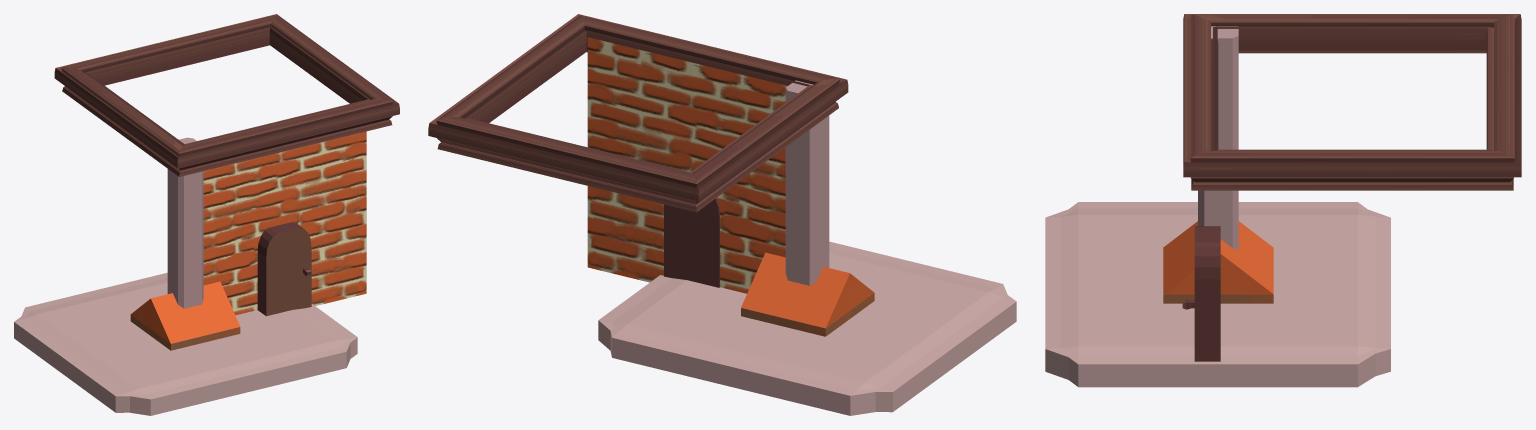
Rendered from ModulosCasa.fbx.
3 renders of one model, left to right at view 1: azimuth 30°, elevation 25°; view 2: azimuth 150°, elevation 25°; view 3: azimuth 270°, elevation 25°, orthographic. The views are drawn at different scales.
Parts seen in each view (by area): view 1: Divisao, Parede, Negocio, Pilar, Porta, Casinha; view 2: Divisao, Parede, Negocio, Pilar, Casinha, Porta; view 3: Divisao, Negocio, Casinha, Pilar, Porta.
Boxes of the visible parts, x1,y1,x2,y2 form: Divisao: (14,272,357,415); Parede: (203,131,366,315); Negocio: (54,14,399,176); Pilar: (167,137,203,308); Porta: (257,222,311,316); Casinha: (130,281,240,350); Divisao: (598,241,1016,415); Parede: (587,37,787,293); Negocio: (428,14,848,212); Pilar: (785,80,829,285); Casinha: (741,252,874,336); Porta: (664,198,719,287); Divisao: (1045,202,1390,387); Negocio: (1183,14,1521,190); Casinha: (1163,221,1273,303); Pilar: (1198,26,1238,249); Porta: (1182,226,1220,361).
Size of the model in its own units: 535 by 382 by 498.
